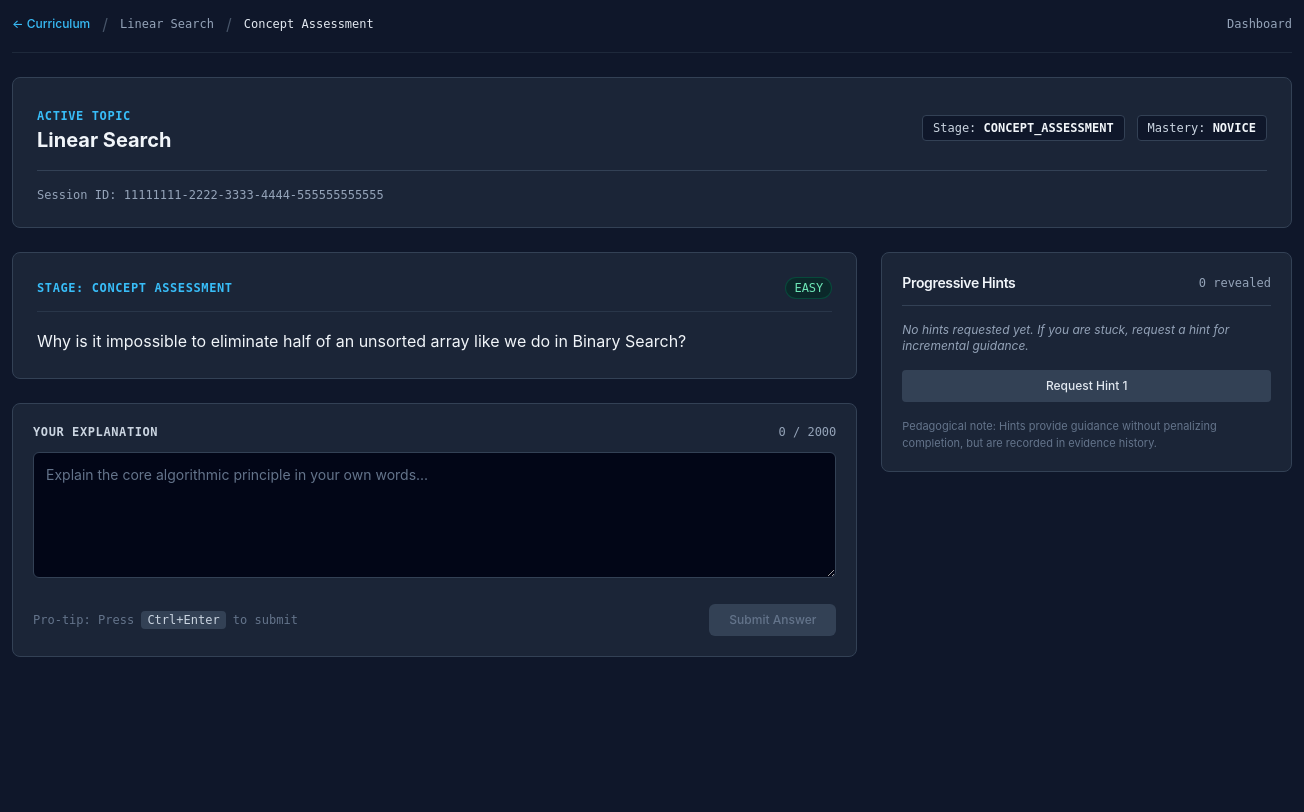
LearningWorkspace Component › handles rate limiting (429) on submit with retry-after countdown
The width and height of the screenshot is (1304, 812).
Expected: the element with test id "active-workspace" is shown, [12,252,1292,657]
Type "Rate limited text" into the text box labelled "Your Explanation" at x=435, y=515, box [33,452,836,578]
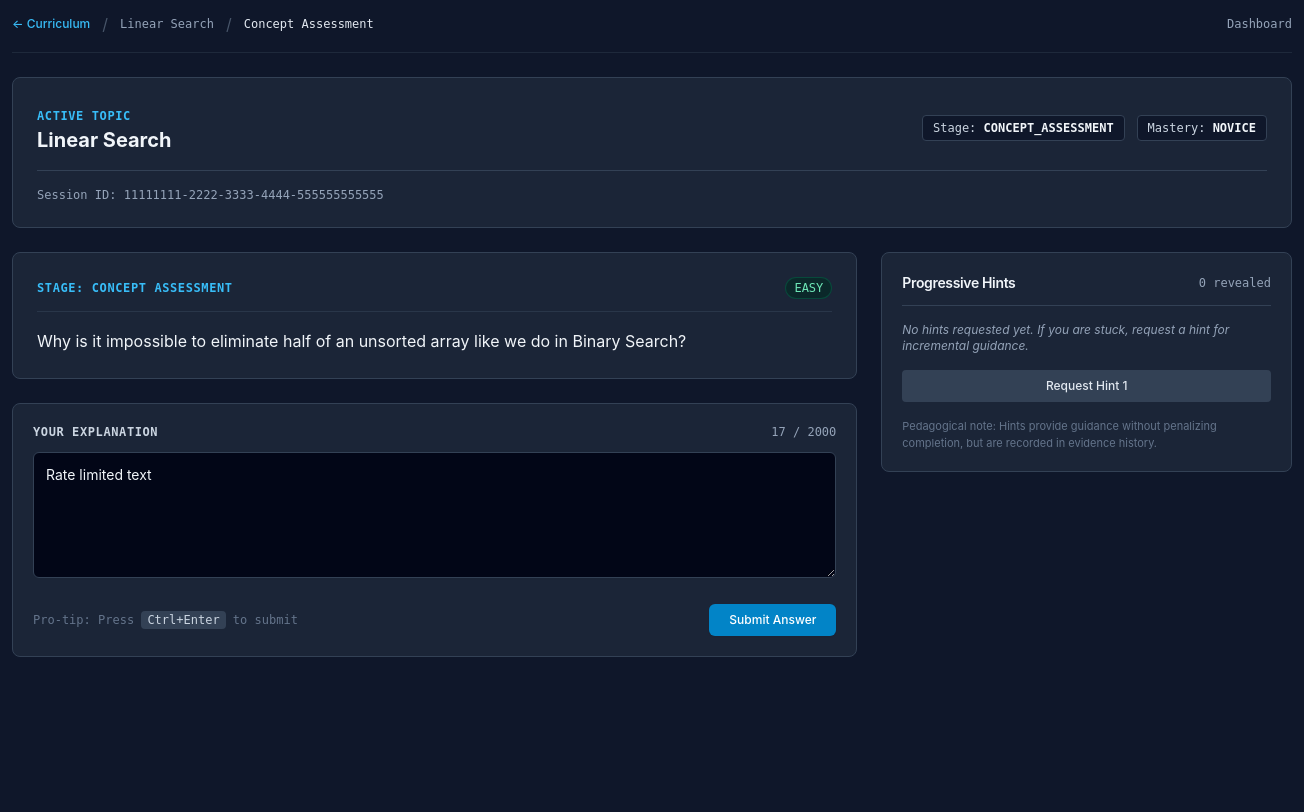
Click the button with test id "btn-submit-answer" at x=773, y=620, box [709,604,836,636]
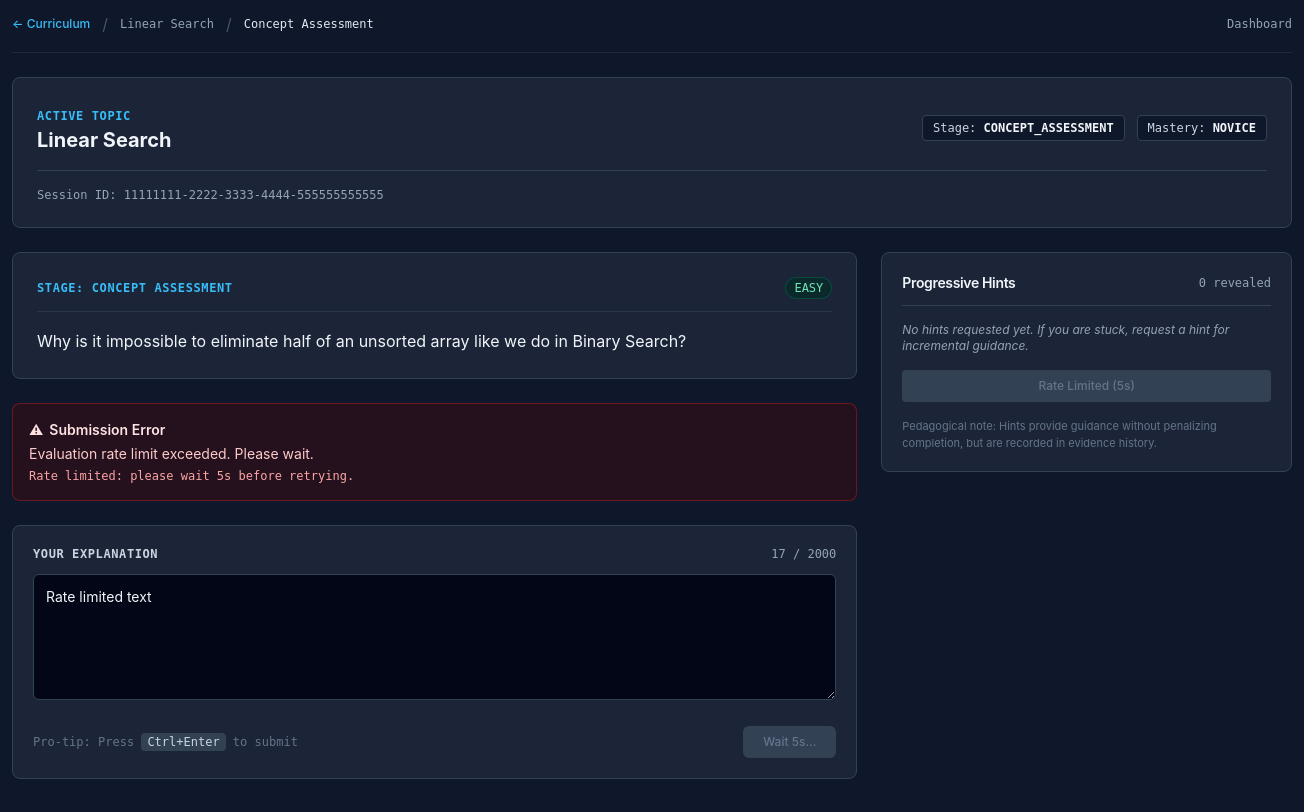
Expected: the message with test id "submit-error" is shown, [12,403,857,501]
Expected: the text "Evaluation rate limit exceeded. Please wait." is shown, [29,445,314,462]
Expected: the text "Rate limited: please wait 5s before retrying." is shown, [29,469,354,483]
